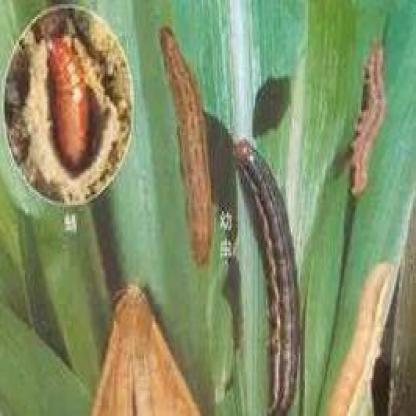armyworm: (229, 136, 307, 416), (92, 286, 207, 416), (159, 23, 217, 270), (321, 256, 406, 416), (47, 32, 95, 164), (349, 34, 384, 199)
